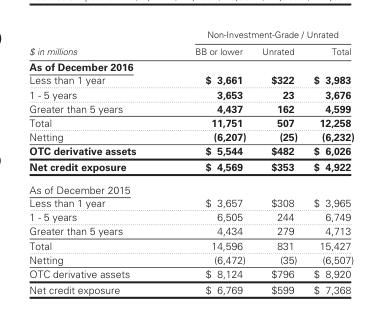table: (28, 28, 353, 295)
table column: (28, 28, 164, 295), (164, 28, 253, 295), (253, 28, 305, 295), (305, 28, 353, 295)
table column header: (28, 28, 353, 58)
table projected row header: (28, 177, 353, 195), (28, 58, 353, 73)
table row: (28, 158, 353, 177), (28, 177, 353, 195), (28, 42, 353, 58), (28, 58, 353, 73), (28, 100, 353, 115), (28, 143, 353, 158), (28, 237, 353, 252), (28, 266, 353, 281), (28, 28, 353, 42), (28, 86, 353, 100), (28, 115, 353, 129), (28, 129, 353, 143), (28, 195, 353, 209), (28, 209, 353, 223), (28, 223, 353, 237), (28, 252, 353, 266), (28, 281, 353, 295), (28, 73, 353, 86)
table spanning cell: (28, 28, 164, 58), (164, 28, 353, 42)
